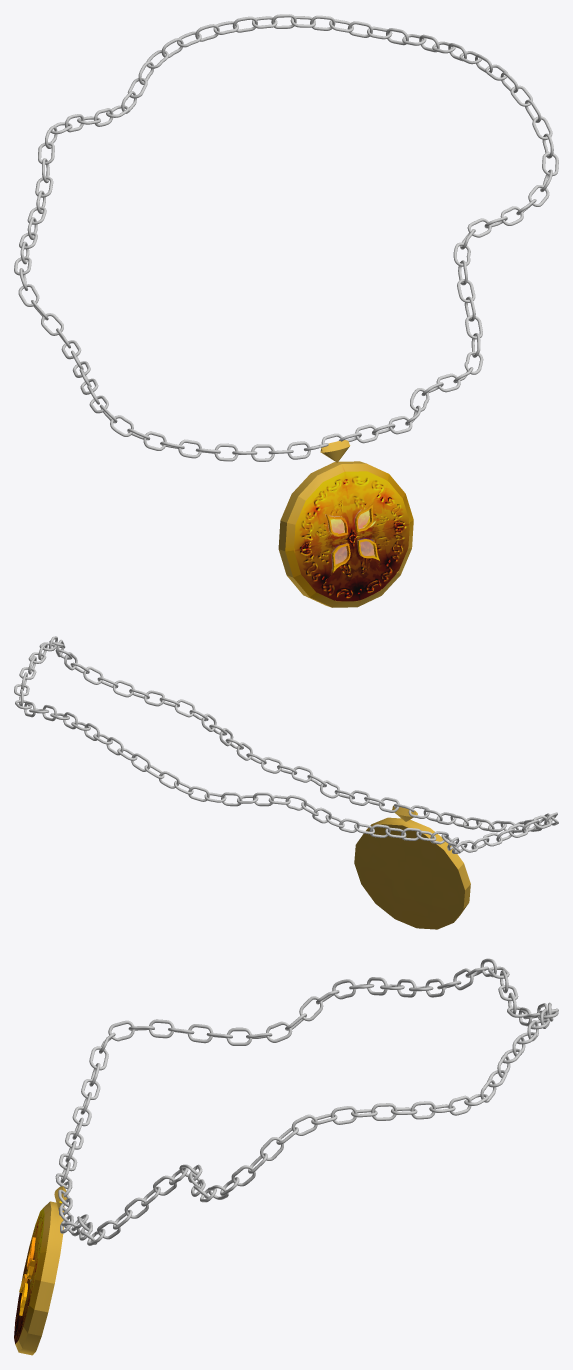
The model's file is Medallon_REDONDEADOFINAL.fbx.
The picture shows the model from 3 angles, top to bottom: view 1: azimuth 30°, elevation 25°; view 2: azimuth 150°, elevation 25°; view 3: azimuth 270°, elevation 25°; orthographic projection. The views are drawn at different scales.
Parts seen in each view (by area): view 1: Medallon, Torus.002; view 2: Torus.002, Medallon; view 3: Torus.002, Medallon.
Part boxes in pixels (x1=…): Medallon: x1=278, y1=440, x2=413, y2=607; Torus.002: x1=14, y1=14, x2=558, y2=461; Torus.002: x1=14, y1=636, x2=558, y2=853; Medallon: x1=354, y1=805, x2=470, y2=929; Torus.002: x1=55, y1=958, x2=558, y2=1245; Medallon: x1=14, y1=1186, x2=68, y2=1355.
Size of the model in its own units: 8 by 5.64 by 7.05.
